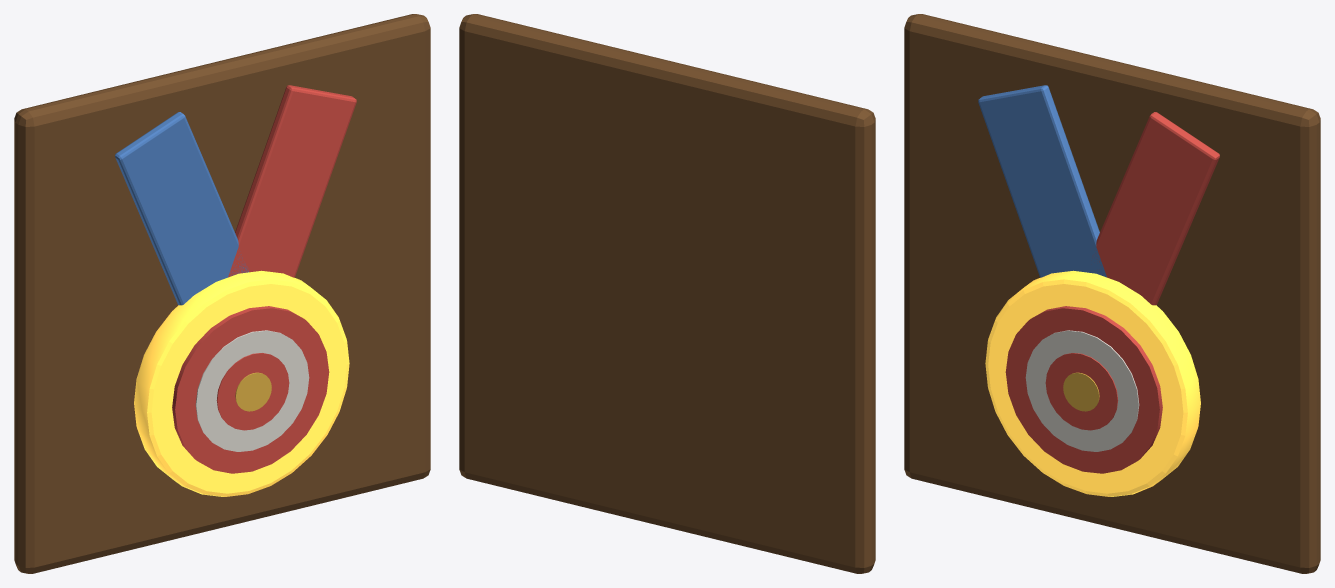
File: trofeu-medalha-mil.glb
3 renders of one model, left to right at view 1: azimuth 30°, elevation 25°; view 2: azimuth 150°, elevation 25°; view 3: azimuth 330°, elevation 25°, orthographic.
Visible parts, largest first — view 1: trofeu-medalha-mil; view 2: trofeu-medalha-mil; view 3: trofeu-medalha-mil.
Boxes of the visible parts, box(x1,y1,x2,y2) form: trofeu-medalha-mil: box(14, 14, 430, 573); trofeu-medalha-mil: box(459, 14, 875, 573); trofeu-medalha-mil: box(904, 14, 1320, 573).
Bounding box in the file's own units: 0.8 × 0.86 × 0.1308.
